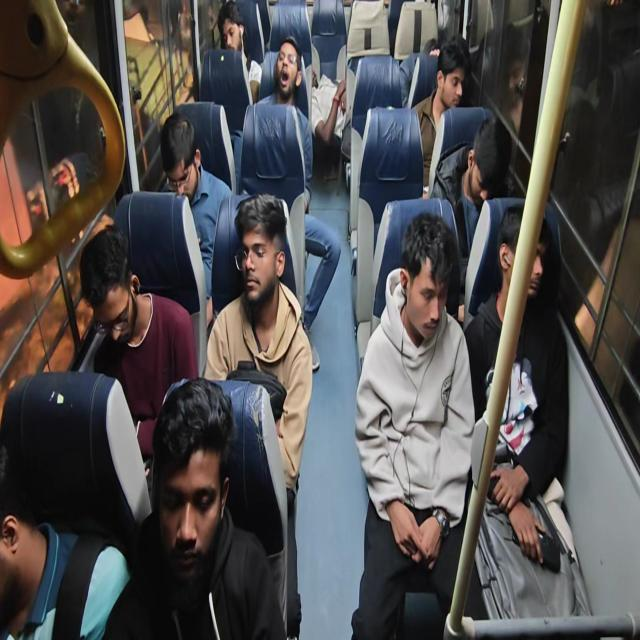person: (350, 211, 476, 638), (463, 204, 591, 620), (102, 376, 288, 639), (204, 192, 313, 637), (0, 370, 137, 638), (79, 222, 199, 467), (257, 36, 341, 369), (158, 112, 232, 324), (428, 116, 512, 302), (410, 35, 470, 194), (217, 0, 262, 105), (258, 36, 309, 119), (497, 26, 531, 136)
